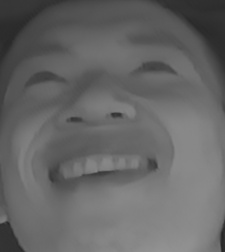eye: (19, 63, 72, 92), (127, 53, 180, 80)
mouth: (40, 137, 167, 199)
